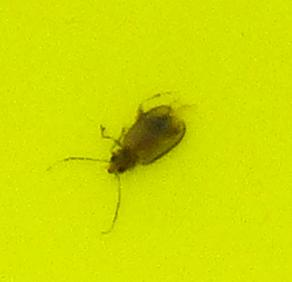Coleoptera: (100, 100, 192, 182)
